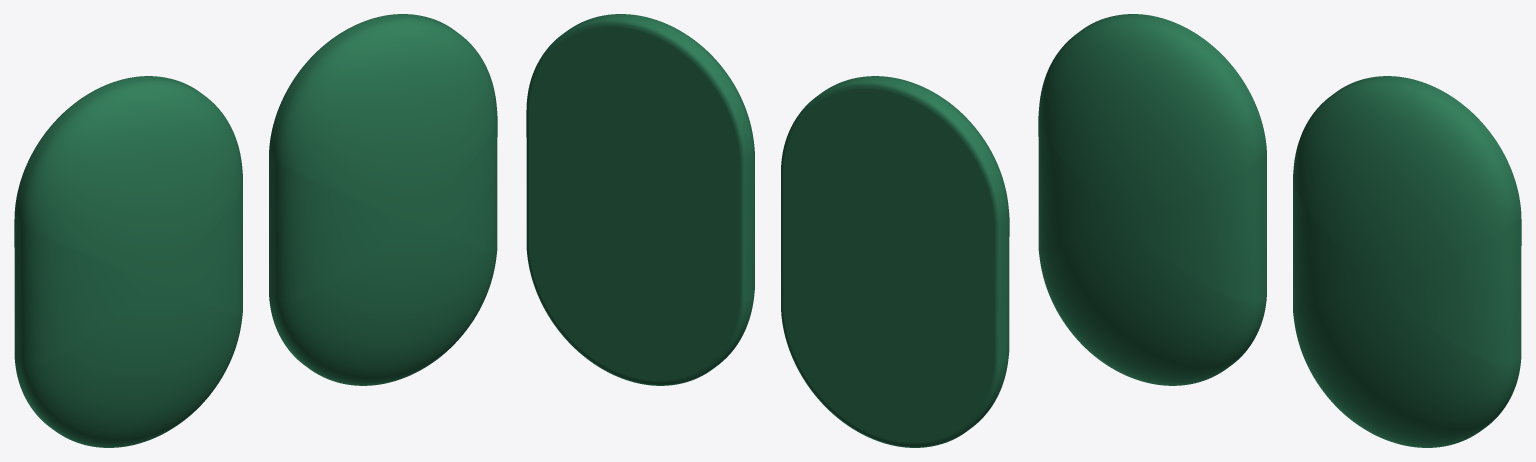
Rendered from matched-pair-v1.glb.
3 renders of one model, left to right at view 1: azimuth 30°, elevation 25°; view 2: azimuth 150°, elevation 25°; view 3: azimuth 330°, elevation 25°, orthographic.
Parts seen in each view (by area): view 1: Cartouche Cabochon 22x14x4mm, Cartouche Cabochon 22x14x4mm.001; view 2: Cartouche Cabochon 22x14x4mm.001, Cartouche Cabochon 22x14x4mm; view 3: Cartouche Cabochon 22x14x4mm.001, Cartouche Cabochon 22x14x4mm.
Boxes of the visible parts, bbox=[...] form: Cartouche Cabochon 22x14x4mm: bbox=[14, 76, 242, 447]; Cartouche Cabochon 22x14x4mm.001: bbox=[269, 14, 497, 385]; Cartouche Cabochon 22x14x4mm.001: bbox=[526, 14, 754, 385]; Cartouche Cabochon 22x14x4mm: bbox=[781, 76, 1009, 447]; Cartouche Cabochon 22x14x4mm.001: bbox=[1293, 76, 1521, 447]; Cartouche Cabochon 22x14x4mm: bbox=[1038, 14, 1266, 385].
Size of the model in its own units: 0.0302 by 0.022 by 0.00398.
